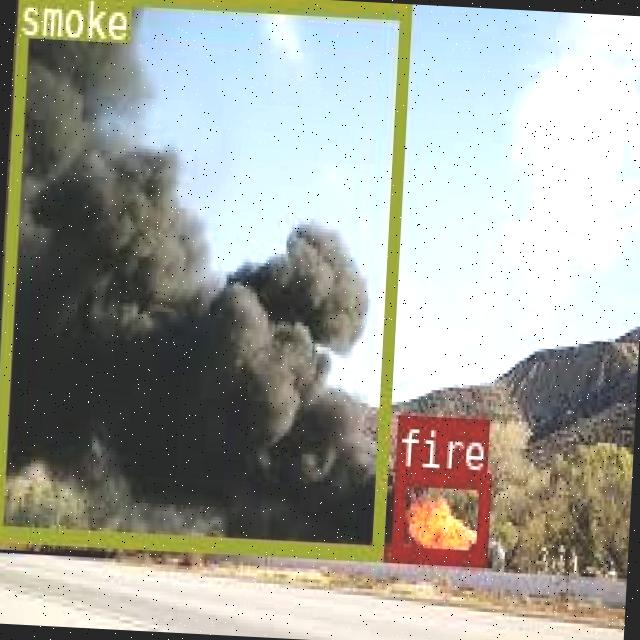fire: (388, 468, 489, 564)
smoke: (0, 0, 411, 559)
